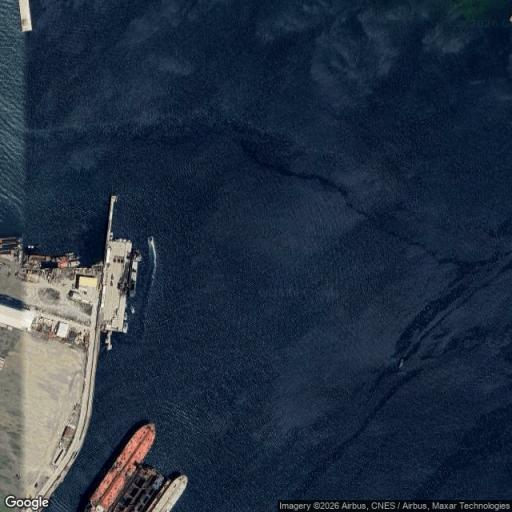ship: (85, 423, 156, 511), (149, 475, 189, 511), (129, 249, 142, 298), (56, 253, 80, 262), (29, 255, 52, 262), (1, 247, 21, 254), (58, 261, 81, 267), (1, 238, 24, 244), (123, 322, 129, 332), (123, 312, 127, 321), (130, 305, 134, 313)
